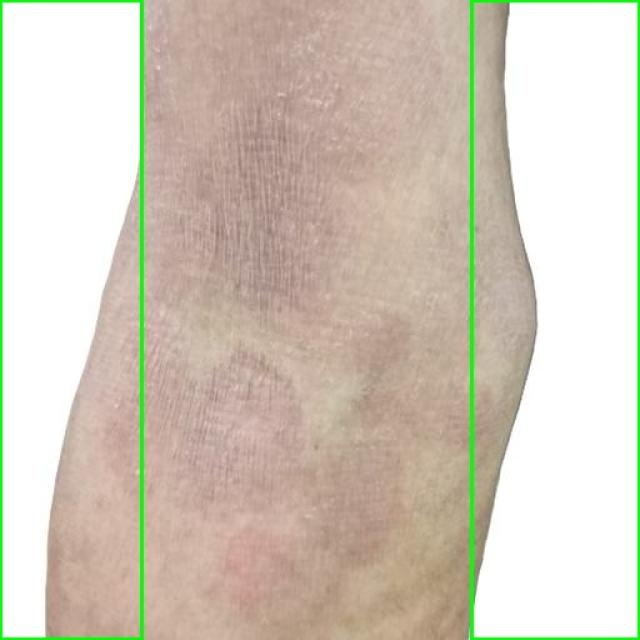Eczema: (471, 0, 639, 639), (0, 0, 141, 639)
